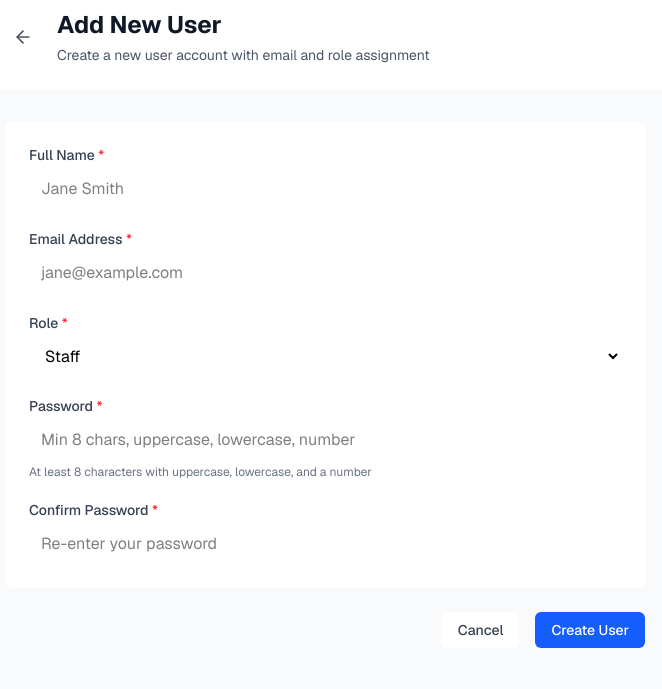
Test: NewUserPage › shows validation error when name is too short
Type "A" into the field labelled "Full Name *" at (325, 189), box x1=29 y1=169 x2=621 y2=209
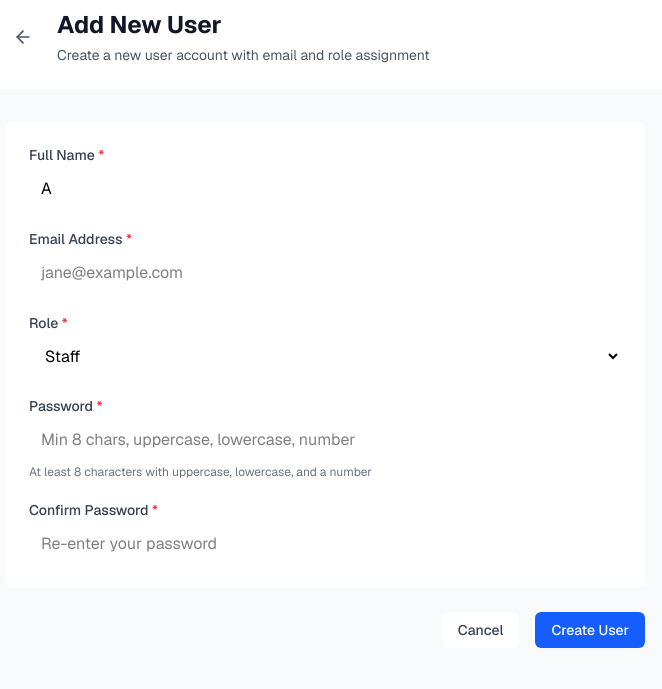
Click the button "Create User" at (590, 630), box x1=535 y1=612 x2=645 y2=648
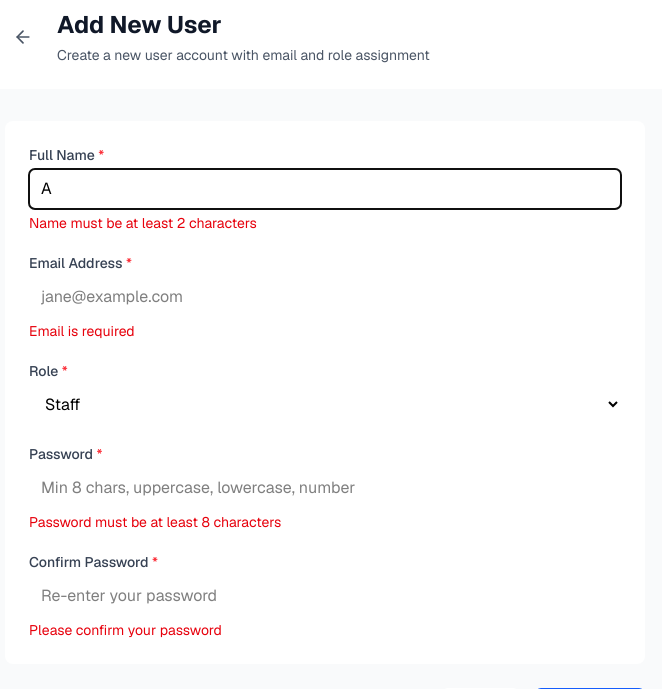
Expected: the text "Name must be at least 2 characters" is shown, x1=29 y1=214 x2=257 y2=232
